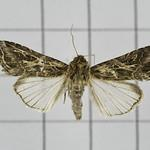Spodoptera litura: (1, 24, 150, 120)
